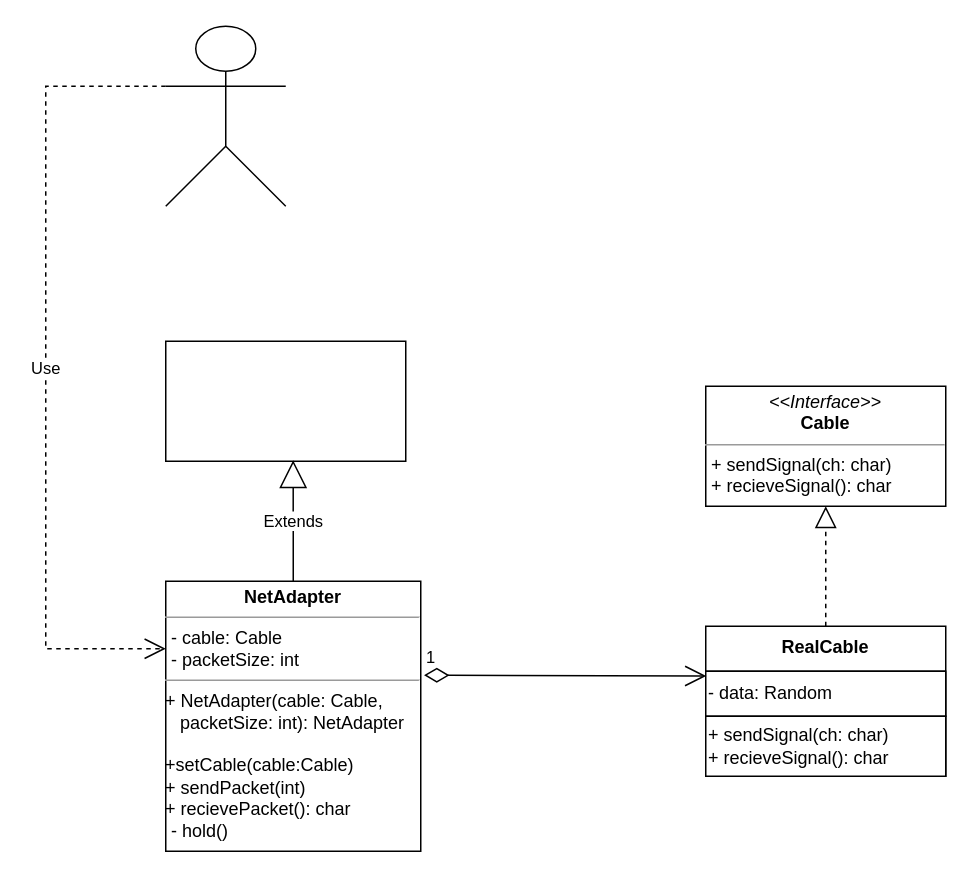
Image size: 972x878. Some labels were removed from this diagram. Here are the shapes that lost their labels. From the top down, the box of each, then its label:
(164, 25, 286, 206): Actor
(164, 340, 406, 461): <<Interface>> Channel + sendPacket(value: int) + recievePaket(): int
